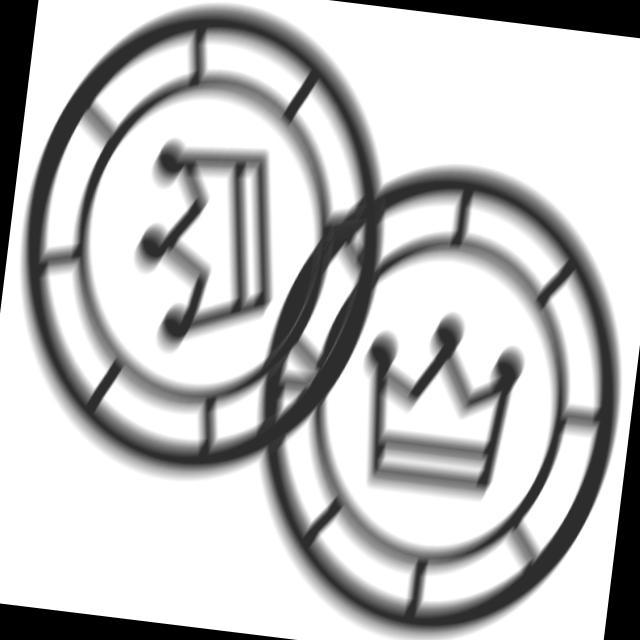coin: (209, 127, 640, 640), (1, 1, 417, 511)
